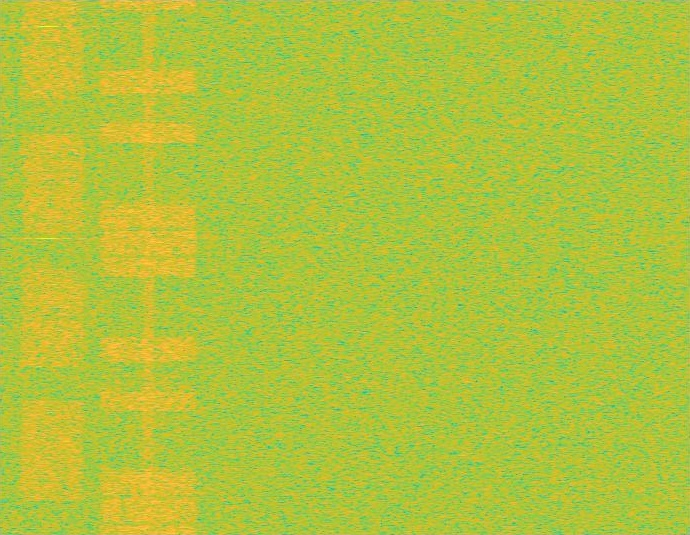5G: (18, 0, 87, 534)
DSSS: (141, 0, 155, 534)
LTE: (97, 0, 200, 534)
Radar: (40, 0, 54, 534)
